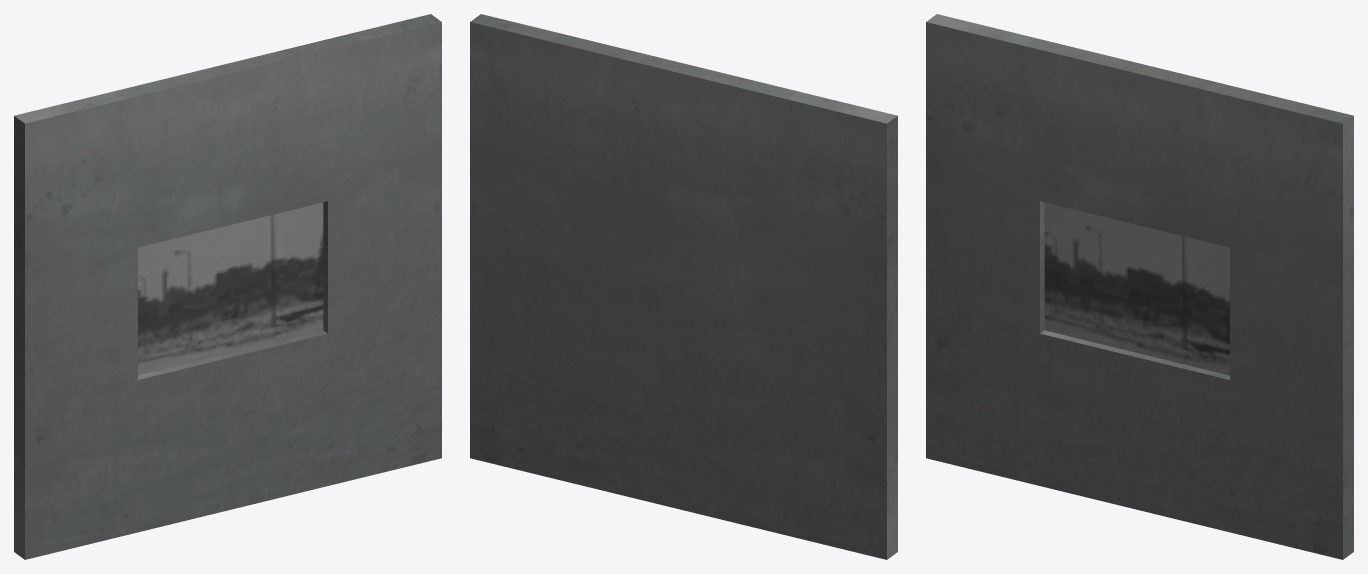
The model's file is me_pictureframesbrushmetal_2_lod0.glb.
The picture shows the model from 3 angles, left to right: view 1: azimuth 30°, elevation 25°; view 2: azimuth 150°, elevation 25°; view 3: azimuth 330°, elevation 25°; orthographic projection.
Visible parts, largest first — view 1: surf0; view 2: surf0; view 3: surf0.
Boxes of the visible parts, <box> form: surf0: <box>14,14,441,559</box>; surf0: <box>470,14,897,559</box>; surf0: <box>926,14,1353,559</box>.
Bounding box in the file's own units: 22 × 22 × 1.
